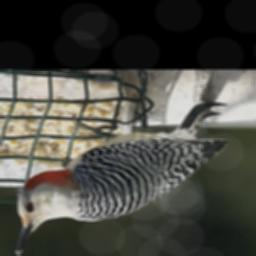Woodpecker: (14, 102, 229, 256)
